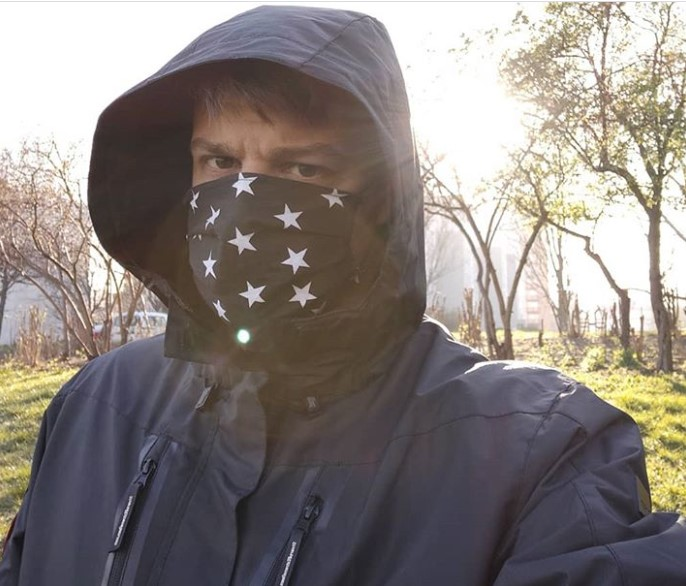face_with_mask: (91, 13, 421, 348)
